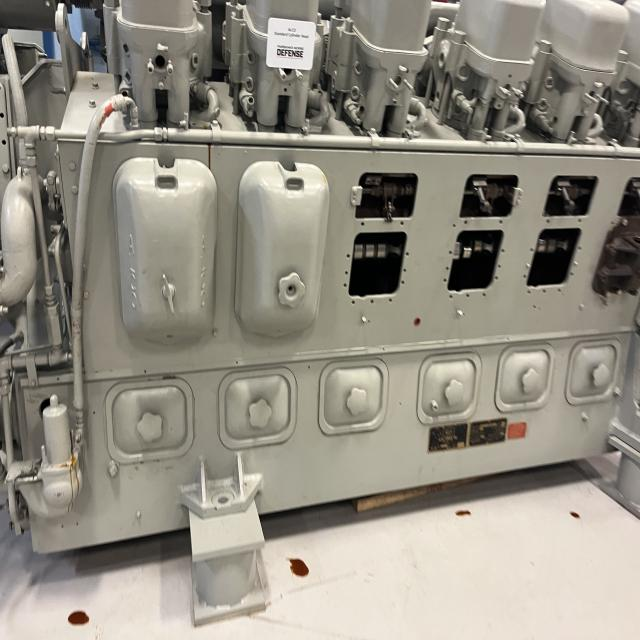Oil Leak: (54, 456, 83, 514), (201, 119, 222, 170), (285, 553, 311, 581), (67, 610, 90, 626), (455, 509, 471, 516), (569, 510, 580, 519)
